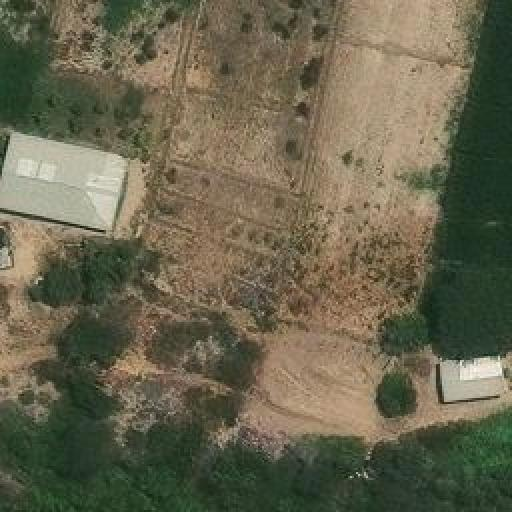manzanas: (0, 123, 144, 241), (429, 351, 510, 412)
